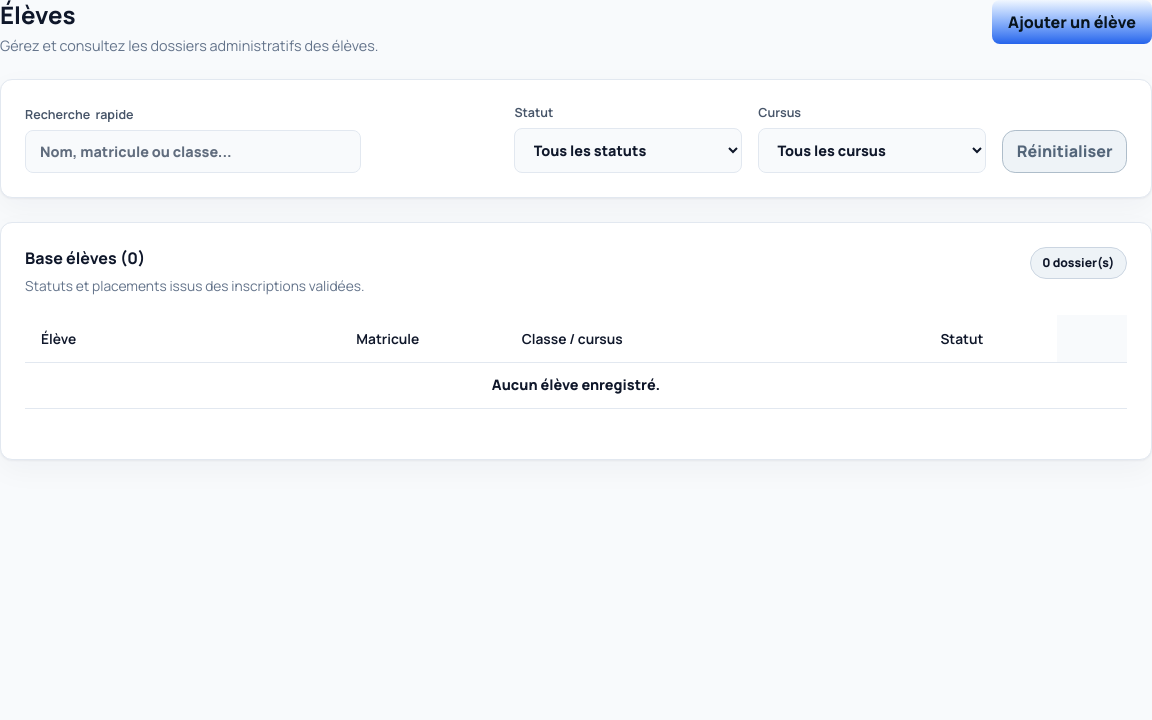
Test: StudentsScreen › ouvre le formulaire de dossier administratif depuis la base élèves
Expected: the heading "Base élèves (0)" is shown, [25, 246, 145, 268]
Click the button "Ajouter un élève" at x=1072, y=22, box [992, 0, 1151, 44]
(page scrolled)
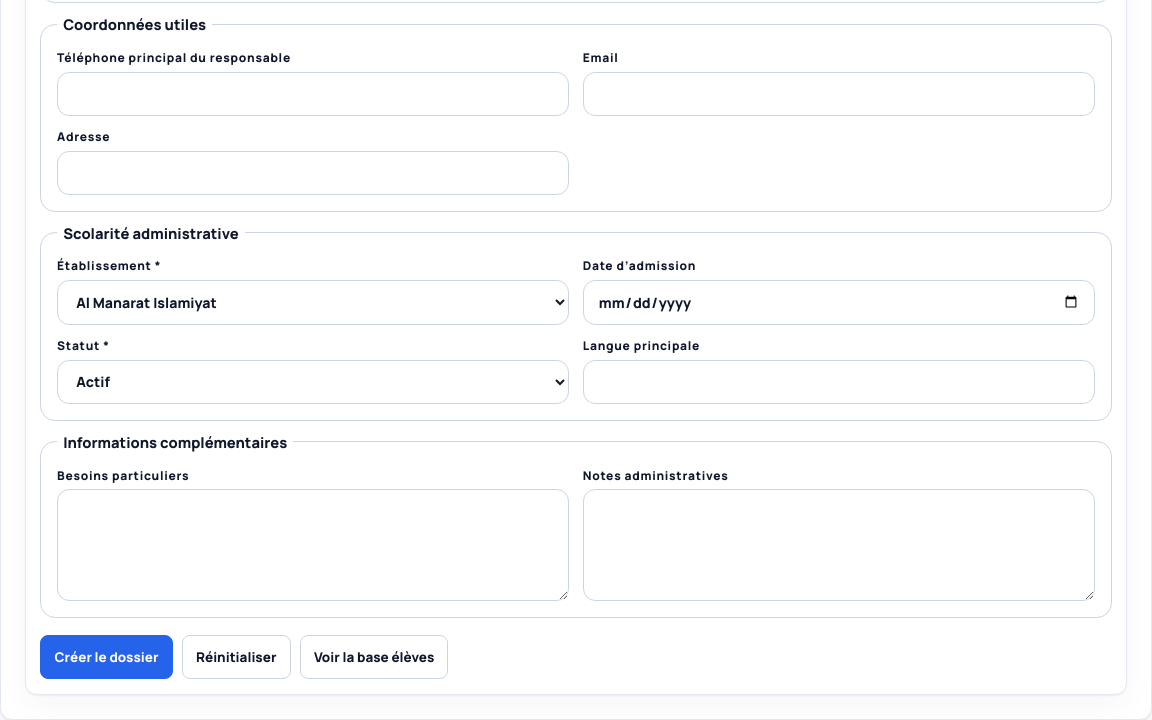
Result: the text "Coordonnées utiles" is shown at [57, 14, 212, 34]
Result: the text "Scolarité administrative" is shown at [57, 223, 245, 243]
Result: the text "Informations complémentaires" is shown at [57, 432, 293, 452]
